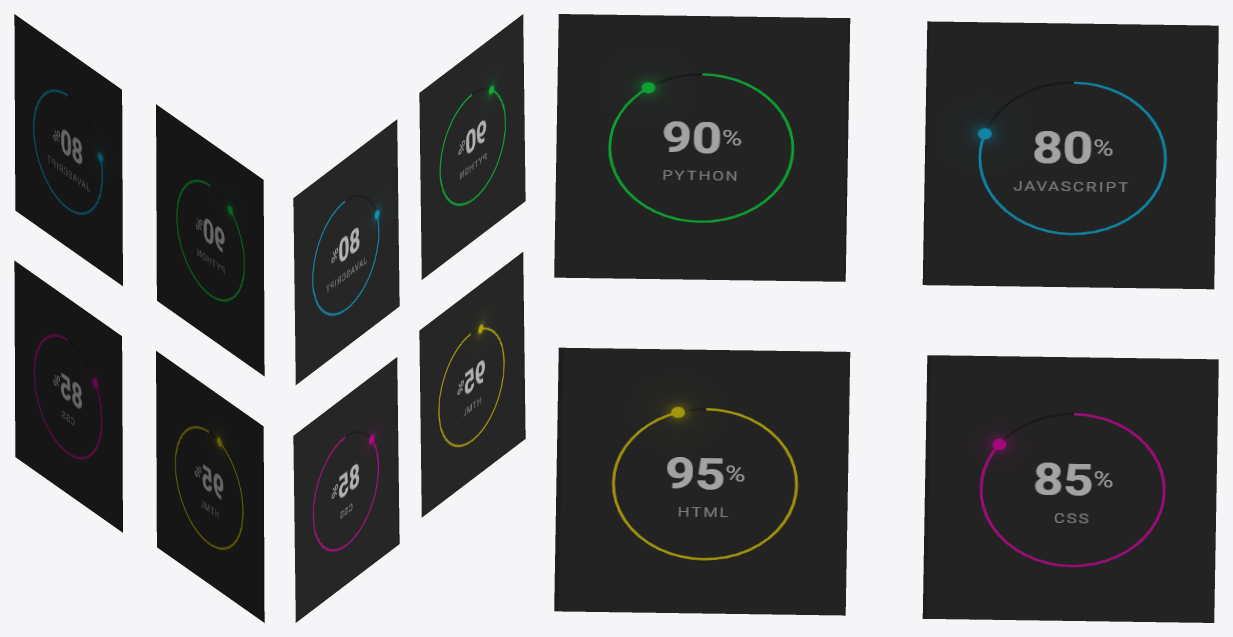
File: skills.glb
The picture shows the model from 3 angles, left to right: view 1: azimuth 30°, elevation 25°; view 2: azimuth 150°, elevation 25°; view 3: azimuth 270°, elevation 25°; orthographic projection. The views are drawn at different scales.
Parts seen in each view (by area): view 1: Plane.001, Plane.002, Plane, Plane.003; view 2: Plane, Plane.003, Plane.001, Plane.002; view 3: Plane, Plane.003, Plane.001, Plane.002.
Part boxes in pixels (x1,y1,x2,y2): Plane.001: [14, 260, 122, 532]; Plane.002: [156, 104, 264, 376]; Plane: [156, 351, 264, 622]; Plane.003: [14, 14, 122, 285]; Plane: [419, 252, 525, 517]; Plane.003: [293, 119, 399, 384]; Plane.001: [293, 357, 399, 622]; Plane.002: [419, 14, 525, 279]; Plane: [554, 347, 850, 615]; Plane.003: [922, 21, 1218, 289]; Plane.001: [922, 355, 1218, 622]; Plane.002: [554, 14, 850, 281].
Bounding box in the file's own units: 0.0673 × 4.64 × 4.56.
4 materials, 4 textured.
